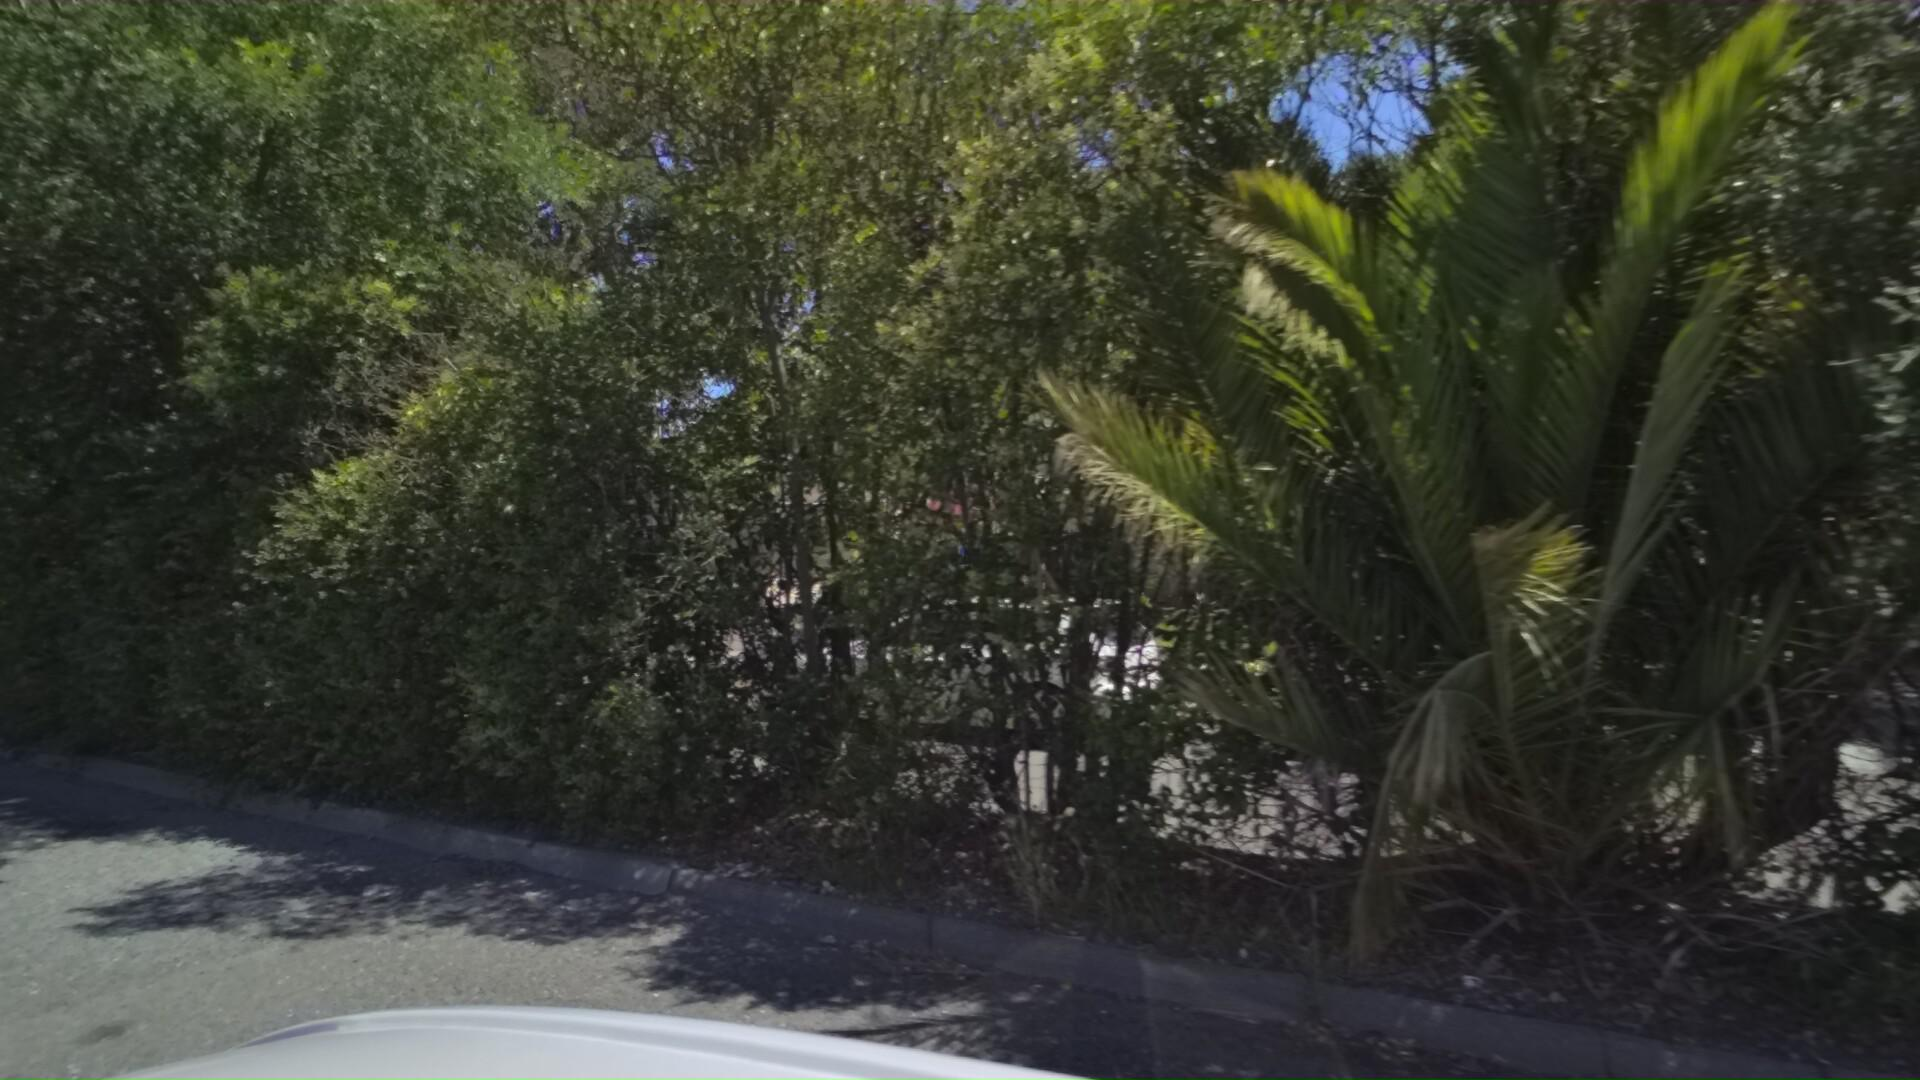car: (783, 556, 1251, 773)
